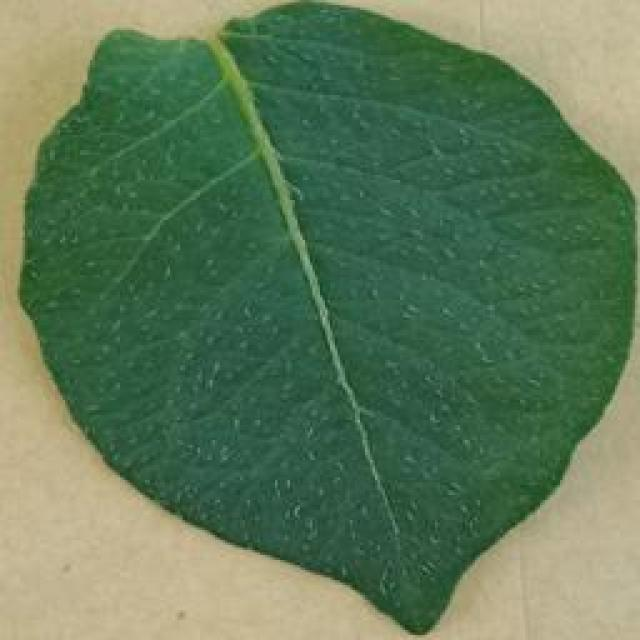Potato_Healthy: (15, 6, 629, 634)
